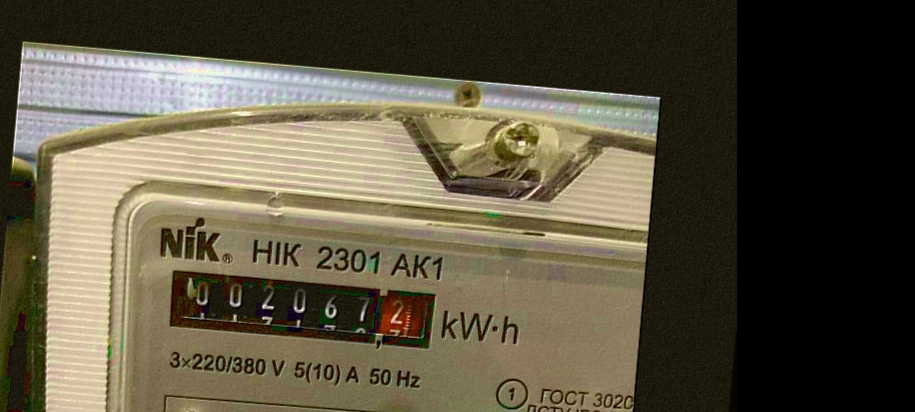0: (191, 278, 212, 308), (288, 284, 309, 314), (225, 279, 245, 309)
2: (387, 296, 407, 327), (258, 282, 278, 312)
6: (321, 290, 341, 321)
7: (354, 293, 372, 325)
screen: (153, 256, 451, 363)
